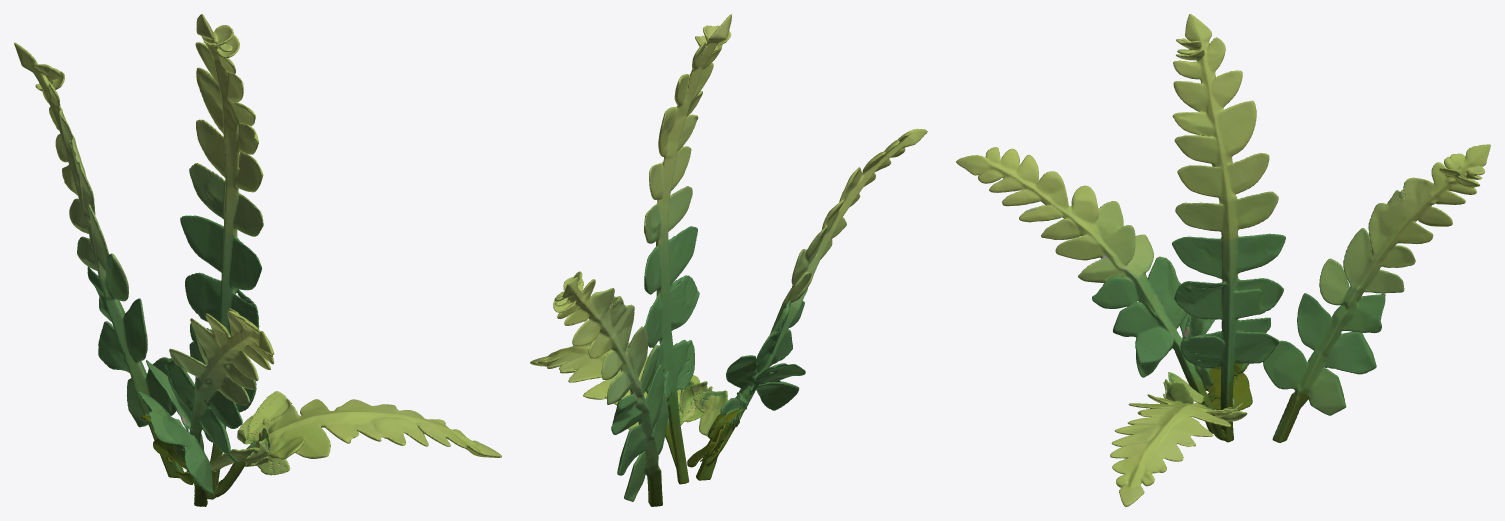
File: undergrowth_fern.glb
The picture shows the model from 3 angles, left to right: view 1: azimuth 30°, elevation 25°; view 2: azimuth 150°, elevation 25°; view 3: azimuth 270°, elevation 25°; orthographic projection. The views are drawn at different scales.
Parts seen in each view (by area): view 1: tripo_node_b4a0ff2d-5d4c-4d85-a976-23e36d53da43; view 2: tripo_node_b4a0ff2d-5d4c-4d85-a976-23e36d53da43; view 3: tripo_node_b4a0ff2d-5d4c-4d85-a976-23e36d53da43.
Boxes of the visible parts, <box> form: tripo_node_b4a0ff2d-5d4c-4d85-a976-23e36d53da43: <box>14,14,501,506</box>; tripo_node_b4a0ff2d-5d4c-4d85-a976-23e36d53da43: <box>530,14,927,506</box>; tripo_node_b4a0ff2d-5d4c-4d85-a976-23e36d53da43: <box>956,14,1490,506</box>.
Size of the model in its own units: 0.5945 by 0.8564 by 1.
Materials: 1 (1 with a texture image).
